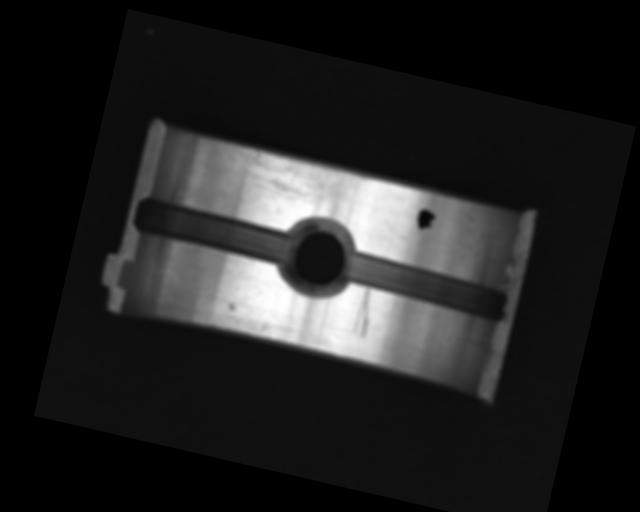blot: (412, 205, 439, 238)
bruise: (227, 302, 237, 312)
gap: (339, 248, 515, 328), (130, 195, 297, 270)
hole: (276, 212, 359, 301)
nick: (350, 285, 378, 339)
scratch: (216, 139, 376, 219)
